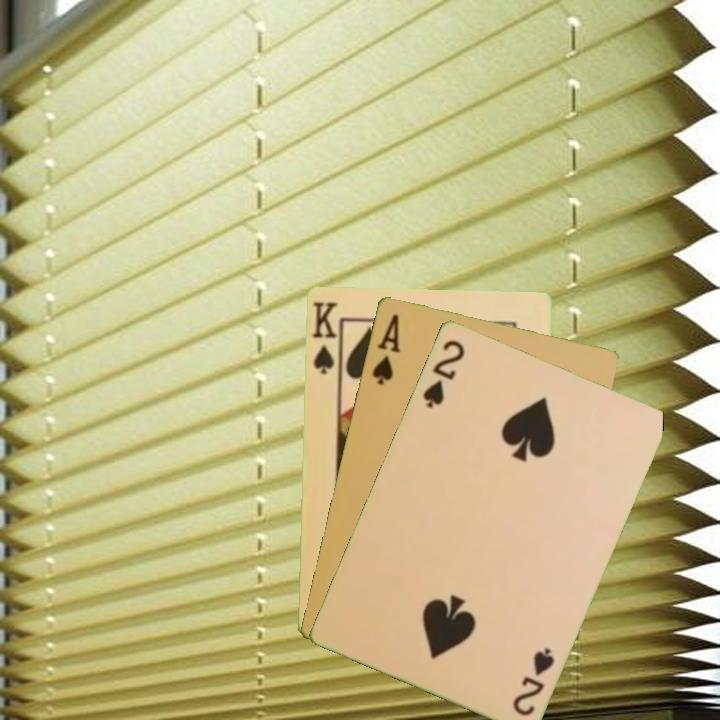2s: (419, 335, 468, 411), (509, 644, 558, 718)
As: (368, 310, 404, 387)
Ks: (308, 297, 340, 377)
